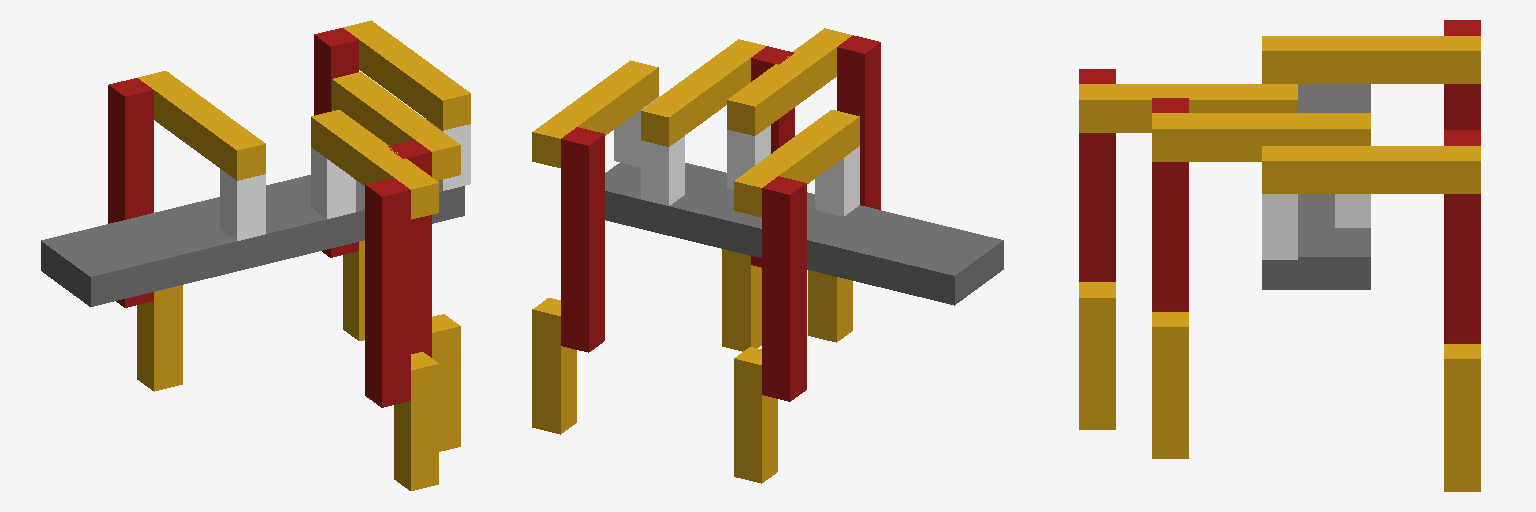
URDF robot description (v0):
<?xml version="1.0" encoding="utf-8"?>
<!-- =================================================================================== -->
<!-- |    This document was autogenerated by xacro from ../robots/v0variants/xacros/v0_4l_13.xacro | -->
<!-- |    EDITING THIS FILE BY HAND IS NOT RECOMMENDED                                 | -->
<!-- =================================================================================== -->
<robot name="v0">
  <material name="grey">
    <color rgba="0.5 0.5 0.5 1"/>
  </material>
  <material name="white">
    <color rgba="1 1 1 1"/>
  </material>
  <material name="yellow">
    <color rgba="0.91 0.7 0.14 1"/>
  </material>
  <material name="red">
    <color rgba="0.71 0.14 0.14 1"/>
  </material>
  <link name="body">
    <visual>
      <geometry>
        <box size="1.3 0.3 0.1"/>
      </geometry>
      <material name="grey"/>
      <origin rpy="0 0 0" xyz="0 0 0.7"/>
    </visual>
    <collision>
      <geometry>
        <box size="1.3 0.3 0.1"/>
      </geometry>
      <origin rpy="0 0 0" xyz="0 0 0.7"/>
    </collision>
    <inertial>
      <mass value="99.84"/>
      <inertia ixx="0.832" ixy="0.0" ixz="0.0" iyy="14.144" iyz="0.0" izz="14.8096"/>
    </inertial>
  </link>
  <link name="l1_segment_1">
    <visual>
      <geometry>
        <box size="0.1 0.1 0.2"/>
      </geometry>
      <material name="white"/>
      <origin rpy="0 0 0" xyz="0 0 0.1"/>
    </visual>
    <collision>
      <geometry>
        <box size="0.1 0.1 0.2"/>
      </geometry>
      <origin rpy="0 0 0" xyz="0 0 0.1"/>
    </collision>
    <inertial>
      <mass value="5.12"/>
      <inertia ixx="0.0213333333333" ixy="0.0" ixz="0.0" iyy="0.0213333333333" iyz="0.0" izz="0.00853333333333"/>
    </inertial>
  </link>
  <joint name="l1_base_to_joint_1" type="fixed">
    <parent link="body"/>
    <child link="l1_segment_1"/>
    <origin rpy="0 0 0" xyz="0.6208081080032603 -0.1 0.75"/>
  </joint>
  <link name="l1_segment_2_HIP">
    <visual>
      <geometry>
        <box size="0.1 0.6 0.1"/>
      </geometry>
      <material name="yellow"/>
      <origin rpy="0 0 0" xyz="0 0.25 0"/>
    </visual>
    <collision>
      <geometry>
        <box size="0.1 0.6 0.1"/>
      </geometry>
      <origin rpy="0 0 0" xyz="0 0.25 0"/>
    </collision>
    <inertial>
      <mass value="15.36"/>
      <inertia ixx="0.4736" ixy="0.0" ixz="0.0" iyy="0.0256" iyz="0.0" izz="0.4736"/>
    </inertial>
  </link>
  <joint name="l1_joint_1_to_2" type="revolute">
    <parent link="l1_segment_1"/>
    <child link="l1_segment_2_HIP"/>
    <origin rpy="0 0 0" xyz="0 0 0.25"/>
    <axis xyz="0.0 0.0 1.0"/>
    <limit effort="2048" lower="-1.2" upper="1.2" velocity="20"/>
  </joint>
  <link name="l1_segment_3_THIGH">
    <visual>
      <geometry>
        <box size="0.1 0.1 0.7"/>
      </geometry>
      <material name="red"/>
      <origin rpy="0 0 0" xyz="0 0 -0.3"/>
    </visual>
    <collision>
      <geometry>
        <box size="0.1 0.1 0.7"/>
      </geometry>
      <origin rpy="0 0 0" xyz="0 0 -0.3"/>
    </collision>
    <inertial>
      <mass value="17.92"/>
      <inertia ixx="0.746666666667" ixy="0.0" ixz="0.0" iyy="0.746666666667" iyz="0.0" izz="0.0298666666667"/>
    </inertial>
  </link>
  <joint name="l1_joint_2_to_3" type="revolute">
    <parent link="l1_segment_2_HIP"/>
    <child link="l1_segment_3_THIGH"/>
    <origin rpy="0 0 0" xyz="-0.1 0.5 0"/>
    <axis xyz="1.0 0.0 0.0"/>
    <limit effort="2048" lower="-0.2" upper="0.75" velocity="20"/>
  </joint>
  <link name="l1_segment_4_FOOT">
    <visual>
      <geometry>
        <box size="0.1 0.1 0.4"/>
      </geometry>
      <material name="yellow"/>
      <origin rpy="0 0 0" xyz="0 0 -0.2"/>
    </visual>
    <collision>
      <geometry>
        <box size="0.1 0.1 0.4"/>
      </geometry>
      <origin rpy="0 0 0" xyz="0 0 -0.2"/>
    </collision>
    <inertial>
      <mass value="10.24"/>
      <inertia ixx="0.145066666667" ixy="0.0" ixz="0.0" iyy="0.145066666667" iyz="0.0" izz="0.0170666666667"/>
    </inertial>
  </link>
  <joint name="l1_joint_3_to_4_FOOT" type="revolute">
    <parent link="l1_segment_3_THIGH"/>
    <child link="l1_segment_4_FOOT"/>
    <origin rpy="0 0 0" xyz="0.1 0 -0.55"/>
    <axis xyz="1.0 0.0 0.0"/>
    <limit effort="2048" lower="-0.2" upper="0.5" velocity="20"/>
  </joint>
  <link name="r2_segment_1">
    <visual>
      <geometry>
        <box size="0.1 0.1 0.2"/>
      </geometry>
      <material name="white"/>
      <origin rpy="0 0 0" xyz="0 0 0.1"/>
    </visual>
    <collision>
      <geometry>
        <box size="0.1 0.1 0.2"/>
      </geometry>
      <origin rpy="0 0 0" xyz="0 0 0.1"/>
    </collision>
    <inertial>
      <mass value="5.12"/>
      <inertia ixx="0.0213333333333" ixy="0.0" ixz="0.0" iyy="0.0213333333333" iyz="0.0" izz="0.00853333333333"/>
    </inertial>
  </link>
  <joint name="r2_base_to_joint_1" type="fixed">
    <parent link="body"/>
    <child link="r2_segment_1"/>
    <origin rpy="0 0 0" xyz="0.4103634324168838 0.1 0.75"/>
  </joint>
  <link name="r2_segment_2_HIP">
    <visual>
      <geometry>
        <box size="0.1 0.6 0.1"/>
      </geometry>
      <material name="yellow"/>
      <origin rpy="0 0 0" xyz="0 -0.25 0"/>
    </visual>
    <collision>
      <geometry>
        <box size="0.1 0.6 0.1"/>
      </geometry>
      <origin rpy="0 0 0" xyz="0 -0.25 0"/>
    </collision>
    <inertial>
      <mass value="15.36"/>
      <inertia ixx="0.4736" ixy="0.0" ixz="0.0" iyy="0.0256" iyz="0.0" izz="0.4736"/>
    </inertial>
  </link>
  <joint name="r2_joint_1_to_2" type="revolute">
    <parent link="r2_segment_1"/>
    <child link="r2_segment_2_HIP"/>
    <origin rpy="0 0 0" xyz="0 0 0.25"/>
    <axis xyz="0.0 0.0 1.0"/>
    <limit effort="2048" lower="-1.2" upper="1.2" velocity="20"/>
  </joint>
  <link name="r2_segment_3_THIGH">
    <visual>
      <geometry>
        <box size="0.1 0.1 0.7"/>
      </geometry>
      <material name="red"/>
      <origin rpy="0 0 0" xyz="0 0 -0.3"/>
    </visual>
    <collision>
      <geometry>
        <box size="0.1 0.1 0.7"/>
      </geometry>
      <origin rpy="0 0 0" xyz="0 0 -0.3"/>
    </collision>
    <inertial>
      <mass value="17.92"/>
      <inertia ixx="0.746666666667" ixy="0.0" ixz="0.0" iyy="0.746666666667" iyz="0.0" izz="0.0298666666667"/>
    </inertial>
  </link>
  <joint name="r2_joint_2_to_3" type="revolute">
    <parent link="r2_segment_2_HIP"/>
    <child link="r2_segment_3_THIGH"/>
    <origin rpy="0 0 0" xyz="-0.1 -0.5 0"/>
    <axis xyz="1.0 0.0 0.0"/>
    <limit effort="2048" lower="-0.75" upper="0.2" velocity="20"/>
  </joint>
  <link name="r2_segment_4_FOOT">
    <visual>
      <geometry>
        <box size="0.1 0.1 0.4"/>
      </geometry>
      <material name="yellow"/>
      <origin rpy="0 0 0" xyz="0 0 -0.2"/>
    </visual>
    <collision>
      <geometry>
        <box size="0.1 0.1 0.4"/>
      </geometry>
      <origin rpy="0 0 0" xyz="0 0 -0.2"/>
    </collision>
    <inertial>
      <mass value="10.24"/>
      <inertia ixx="0.145066666667" ixy="0.0" ixz="0.0" iyy="0.145066666667" iyz="0.0" izz="0.0170666666667"/>
    </inertial>
  </link>
  <joint name="r2_joint_3_to_4_FOOT" type="revolute">
    <parent link="r2_segment_3_THIGH"/>
    <child link="r2_segment_4_FOOT"/>
    <origin rpy="0 0 0" xyz="0.1 0 -0.55"/>
    <axis xyz="1.0 0.0 0.0"/>
    <limit effort="2048" lower="-0.5" upper="0.2" velocity="20"/>
  </joint>
  <link name="l3_segment_1">
    <visual>
      <geometry>
        <box size="0.1 0.1 0.2"/>
      </geometry>
      <material name="white"/>
      <origin rpy="0 0 0" xyz="0 0 0.1"/>
    </visual>
    <collision>
      <geometry>
        <box size="0.1 0.1 0.2"/>
      </geometry>
      <origin rpy="0 0 0" xyz="0 0 0.1"/>
    </collision>
    <inertial>
      <mass value="5.12"/>
      <inertia ixx="0.0213333333333" ixy="0.0" ixz="0.0" iyy="0.0213333333333" iyz="0.0" izz="0.00853333333333"/>
    </inertial>
  </link>
  <joint name="l3_base_to_joint_1" type="fixed">
    <parent link="body"/>
    <child link="l3_segment_1"/>
    <origin rpy="0 0 0" xyz="-0.09162102193795629 -0.1 0.75"/>
  </joint>
  <link name="l3_segment_2_HIP">
    <visual>
      <geometry>
        <box size="0.1 0.6 0.1"/>
      </geometry>
      <material name="yellow"/>
      <origin rpy="0 0 0" xyz="0 0.25 0"/>
    </visual>
    <collision>
      <geometry>
        <box size="0.1 0.6 0.1"/>
      </geometry>
      <origin rpy="0 0 0" xyz="0 0.25 0"/>
    </collision>
    <inertial>
      <mass value="15.36"/>
      <inertia ixx="0.4736" ixy="0.0" ixz="0.0" iyy="0.0256" iyz="0.0" izz="0.4736"/>
    </inertial>
  </link>
  <joint name="l3_joint_1_to_2" type="revolute">
    <parent link="l3_segment_1"/>
    <child link="l3_segment_2_HIP"/>
    <origin rpy="0 0 0" xyz="0 0 0.25"/>
    <axis xyz="0.0 0.0 1.0"/>
    <limit effort="2048" lower="-1.2" upper="1.2" velocity="20"/>
  </joint>
  <link name="l3_segment_3_THIGH">
    <visual>
      <geometry>
        <box size="0.1 0.1 0.7"/>
      </geometry>
      <material name="red"/>
      <origin rpy="0 0 0" xyz="0 0 -0.3"/>
    </visual>
    <collision>
      <geometry>
        <box size="0.1 0.1 0.7"/>
      </geometry>
      <origin rpy="0 0 0" xyz="0 0 -0.3"/>
    </collision>
    <inertial>
      <mass value="17.92"/>
      <inertia ixx="0.746666666667" ixy="0.0" ixz="0.0" iyy="0.746666666667" iyz="0.0" izz="0.0298666666667"/>
    </inertial>
  </link>
  <joint name="l3_joint_2_to_3" type="revolute">
    <parent link="l3_segment_2_HIP"/>
    <child link="l3_segment_3_THIGH"/>
    <origin rpy="0 0 0" xyz="-0.1 0.5 0"/>
    <axis xyz="1.0 0.0 0.0"/>
    <limit effort="2048" lower="-0.2" upper="0.75" velocity="20"/>
  </joint>
  <link name="l3_segment_4_FOOT">
    <visual>
      <geometry>
        <box size="0.1 0.1 0.4"/>
      </geometry>
      <material name="yellow"/>
      <origin rpy="0 0 0" xyz="0 0 -0.2"/>
    </visual>
    <collision>
      <geometry>
        <box size="0.1 0.1 0.4"/>
      </geometry>
      <origin rpy="0 0 0" xyz="0 0 -0.2"/>
    </collision>
    <inertial>
      <mass value="10.24"/>
      <inertia ixx="0.145066666667" ixy="0.0" ixz="0.0" iyy="0.145066666667" iyz="0.0" izz="0.0170666666667"/>
    </inertial>
  </link>
  <joint name="l3_joint_3_to_4_FOOT" type="revolute">
    <parent link="l3_segment_3_THIGH"/>
    <child link="l3_segment_4_FOOT"/>
    <origin rpy="0 0 0" xyz="0.1 0 -0.55"/>
    <axis xyz="1.0 0.0 0.0"/>
    <limit effort="2048" lower="-0.2" upper="0.5" velocity="20"/>
  </joint>
  <link name="r4_segment_1">
    <visual>
      <geometry>
        <box size="0.1 0.1 0.2"/>
      </geometry>
      <material name="white"/>
      <origin rpy="0 0 0" xyz="0 0 0.1"/>
    </visual>
    <collision>
      <geometry>
        <box size="0.1 0.1 0.2"/>
      </geometry>
      <origin rpy="0 0 0" xyz="0 0 0.1"/>
    </collision>
    <inertial>
      <mass value="5.12"/>
      <inertia ixx="0.0213333333333" ixy="0.0" ixz="0.0" iyy="0.0213333333333" iyz="0.0" izz="0.00853333333333"/>
    </inertial>
  </link>
  <joint name="r4_base_to_joint_1" type="fixed">
    <parent link="body"/>
    <child link="r4_segment_1"/>
    <origin rpy="0 0 0" xyz="0.22133120357365066 -0.1 0.75"/>
  </joint>
  <link name="r4_segment_2_HIP">
    <visual>
      <geometry>
        <box size="0.1 0.6 0.1"/>
      </geometry>
      <material name="yellow"/>
      <origin rpy="0 0 0" xyz="0 -0.25 0"/>
    </visual>
    <collision>
      <geometry>
        <box size="0.1 0.6 0.1"/>
      </geometry>
      <origin rpy="0 0 0" xyz="0 -0.25 0"/>
    </collision>
    <inertial>
      <mass value="15.36"/>
      <inertia ixx="0.4736" ixy="0.0" ixz="0.0" iyy="0.0256" iyz="0.0" izz="0.4736"/>
    </inertial>
  </link>
  <joint name="r4_joint_1_to_2" type="revolute">
    <parent link="r4_segment_1"/>
    <child link="r4_segment_2_HIP"/>
    <origin rpy="0 0 0" xyz="0 0 0.25"/>
    <axis xyz="0.0 0.0 1.0"/>
    <limit effort="2048" lower="-1.2" upper="1.2" velocity="20"/>
  </joint>
  <link name="r4_segment_3_THIGH">
    <visual>
      <geometry>
        <box size="0.1 0.1 0.7"/>
      </geometry>
      <material name="red"/>
      <origin rpy="0 0 0" xyz="0 0 -0.3"/>
    </visual>
    <collision>
      <geometry>
        <box size="0.1 0.1 0.7"/>
      </geometry>
      <origin rpy="0 0 0" xyz="0 0 -0.3"/>
    </collision>
    <inertial>
      <mass value="17.92"/>
      <inertia ixx="0.746666666667" ixy="0.0" ixz="0.0" iyy="0.746666666667" iyz="0.0" izz="0.0298666666667"/>
    </inertial>
  </link>
  <joint name="r4_joint_2_to_3" type="revolute">
    <parent link="r4_segment_2_HIP"/>
    <child link="r4_segment_3_THIGH"/>
    <origin rpy="0 0 0" xyz="-0.1 -0.5 0"/>
    <axis xyz="1.0 0.0 0.0"/>
    <limit effort="2048" lower="-0.75" upper="0.2" velocity="20"/>
  </joint>
  <link name="r4_segment_4_FOOT">
    <visual>
      <geometry>
        <box size="0.1 0.1 0.4"/>
      </geometry>
      <material name="yellow"/>
      <origin rpy="0 0 0" xyz="0 0 -0.2"/>
    </visual>
    <collision>
      <geometry>
        <box size="0.1 0.1 0.4"/>
      </geometry>
      <origin rpy="0 0 0" xyz="0 0 -0.2"/>
    </collision>
    <inertial>
      <mass value="10.24"/>
      <inertia ixx="0.145066666667" ixy="0.0" ixz="0.0" iyy="0.145066666667" iyz="0.0" izz="0.0170666666667"/>
    </inertial>
  </link>
  <joint name="r4_joint_3_to_4_FOOT" type="revolute">
    <parent link="r4_segment_3_THIGH"/>
    <child link="r4_segment_4_FOOT"/>
    <origin rpy="0 0 0" xyz="0.1 0 -0.55"/>
    <axis xyz="1.0 0.0 0.0"/>
    <limit effort="2048" lower="-0.5" upper="0.2" velocity="20"/>
  </joint>
</robot>

--- Facts derived from the render (not from the file) ---
3 views of the same robot in one strip: view 1: azimuth 30°, elevation 25°; view 2: azimuth 150°, elevation 25°; view 3: azimuth 270°, elevation 25° (orthographic).
Robot: v0 — 17 links, 16 joints (12 revolute, 4 fixed); root link body; default pose: every joint at zero.
Visible links, largest first — view 1: body, r4_segment_3_THIGH, l3_segment_3_THIGH, l3_segment_2_HIP, l1_segment_2_HIP, r4_segment_2_HIP, r2_segment_2_HIP, r4_segment_4_FOOT, l3_segment_4_FOOT, r2_segment_3_THIGH, r2_segment_4_FOOT, l1_segment_3_THIGH (+4 smaller); view 2: body, l3_segment_3_THIGH, l1_segment_3_THIGH, r4_segment_2_HIP, r2_segment_2_HIP, l1_segment_2_HIP, l3_segment_2_HIP, r4_segment_3_THIGH, l1_segment_4_FOOT, l3_segment_4_FOOT, r2_segment_4_FOOT, r4_segment_4_FOOT (+5 smaller); view 3: l1_segment_2_HIP, l3_segment_2_HIP, r2_segment_2_HIP, body, r4_segment_2_HIP, l1_segment_3_THIGH, r2_segment_3_THIGH, r4_segment_3_THIGH, l1_segment_4_FOOT, r4_segment_4_FOOT, r2_segment_4_FOOT, l1_segment_1 (+2 smaller).
Link boxes in pixels (x1,y1,x2,y2): body: (41,175,464,306); r4_segment_3_THIGH: (365,178,410,407); l3_segment_3_THIGH: (108,78,153,307); l3_segment_2_HIP: (138,71,265,180); l1_segment_2_HIP: (343,20,470,130); r4_segment_2_HIP: (311,110,438,219); r2_segment_2_HIP: (332,72,460,180); r4_segment_4_FOOT: (394,352,438,490); l3_segment_4_FOOT: (137,285,182,391); r2_segment_3_THIGH: (388,140,431,357); r2_segment_4_FOOT: (432,314,460,451); l1_segment_3_THIGH: (314,28,358,257); body: (605,163,1003,305); l3_segment_3_THIGH: (762,176,806,401); l1_segment_3_THIGH: (561,127,604,352); r4_segment_2_HIP: (727,28,852,135); r2_segment_2_HIP: (641,39,765,146); l1_segment_2_HIP: (532,60,658,167); l3_segment_2_HIP: (734,110,859,217); r4_segment_3_THIGH: (837,35,880,209); l1_segment_4_FOOT: (532,298,576,434); l3_segment_4_FOOT: (734,347,777,483); r2_segment_4_FOOT: (722,249,761,351); r4_segment_4_FOOT: (808,270,852,342); l1_segment_2_HIP: (1262,146,1480,193); l3_segment_2_HIP: (1262,36,1480,83); r2_segment_2_HIP: (1152,113,1370,161); body: (1262,84,1370,289); r4_segment_2_HIP: (1079,84,1297,132); l1_segment_3_THIGH: (1444,130,1480,343); r2_segment_3_THIGH: (1152,98,1188,311); r4_segment_3_THIGH: (1079,69,1115,281); l1_segment_4_FOOT: (1444,344,1480,491); r4_segment_4_FOOT: (1079,282,1115,429); r2_segment_4_FOOT: (1152,312,1188,458); l1_segment_1: (1262,194,1297,259).
Bounding box of the posed robot: 1.32 × 1.1 × 1 m (x, y, z).
Geometry: primitives only (box / cylinder / sphere), no mesh files.